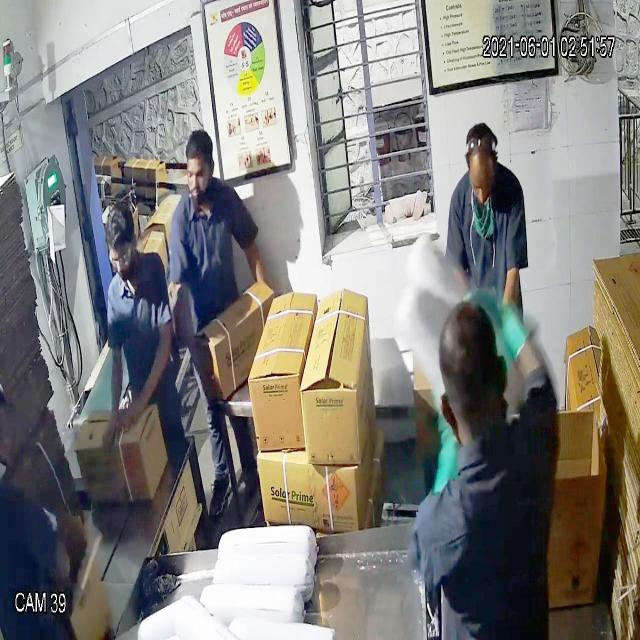glasses: (106, 241, 136, 275)
no-glass: (461, 171, 503, 199)
